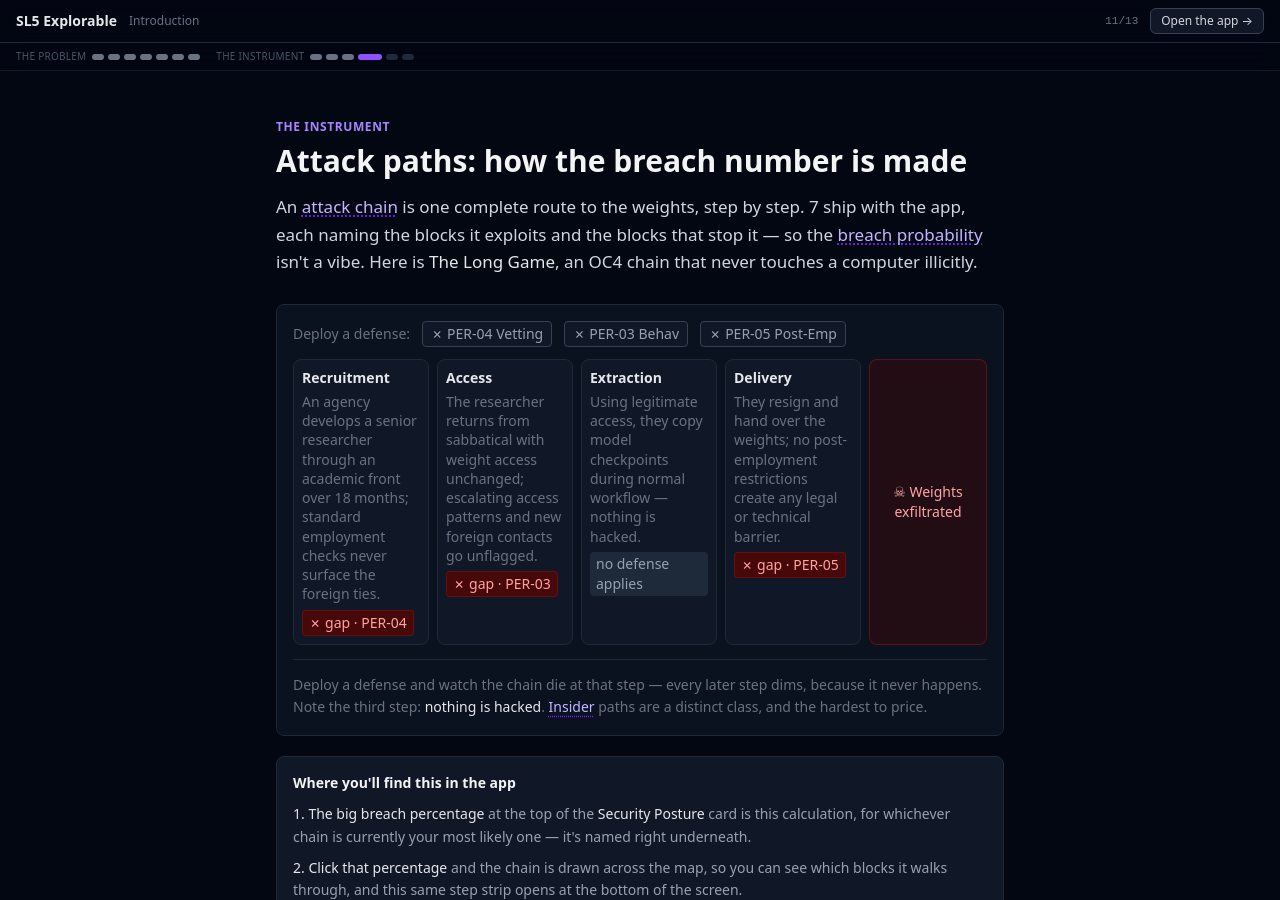
Test: the demos respond › deploying PER-04 blocks The Long Game at its first step
Check: the text "☠ Weights exfiltrated" is shown, box [869,359,987,645]
What coordinates should you click on to do the following:
click the button "✗ PER-04 Vetting"
I would click on:
 (487, 334)
Its box is [422,321,552,347].
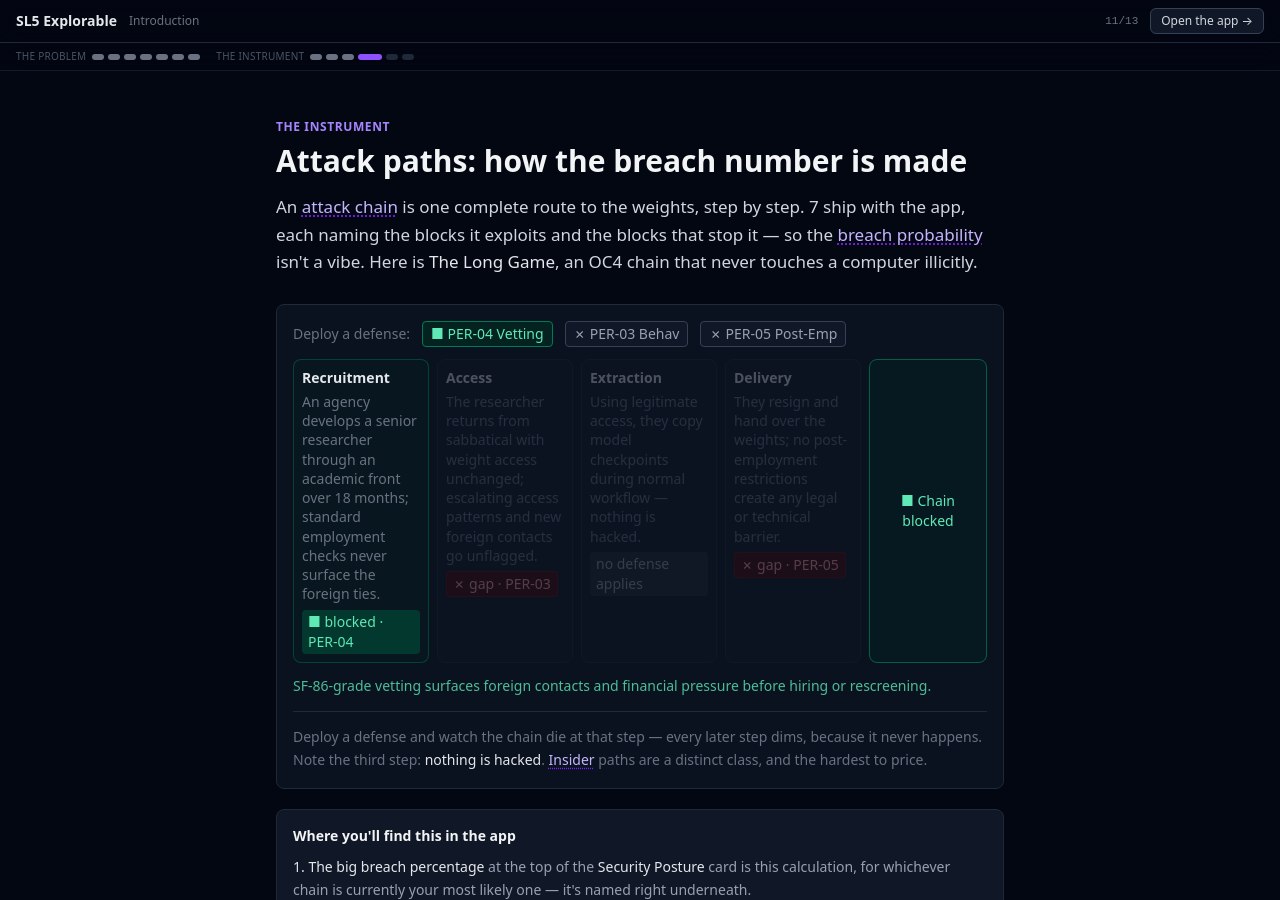
Check: the text "■ Chain blocked" is shown, box [869,359,987,663]
Check: the text "SF-86-grade vetting surfaces foreign contacts and financial pressure before hiring or rescreening." is shown, box [293,676,931,695]
